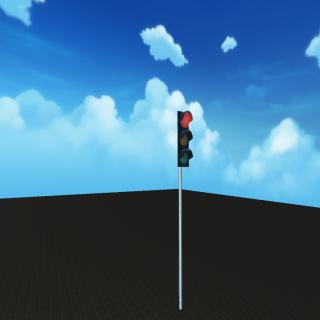sinalRed: (175, 109, 192, 170)
